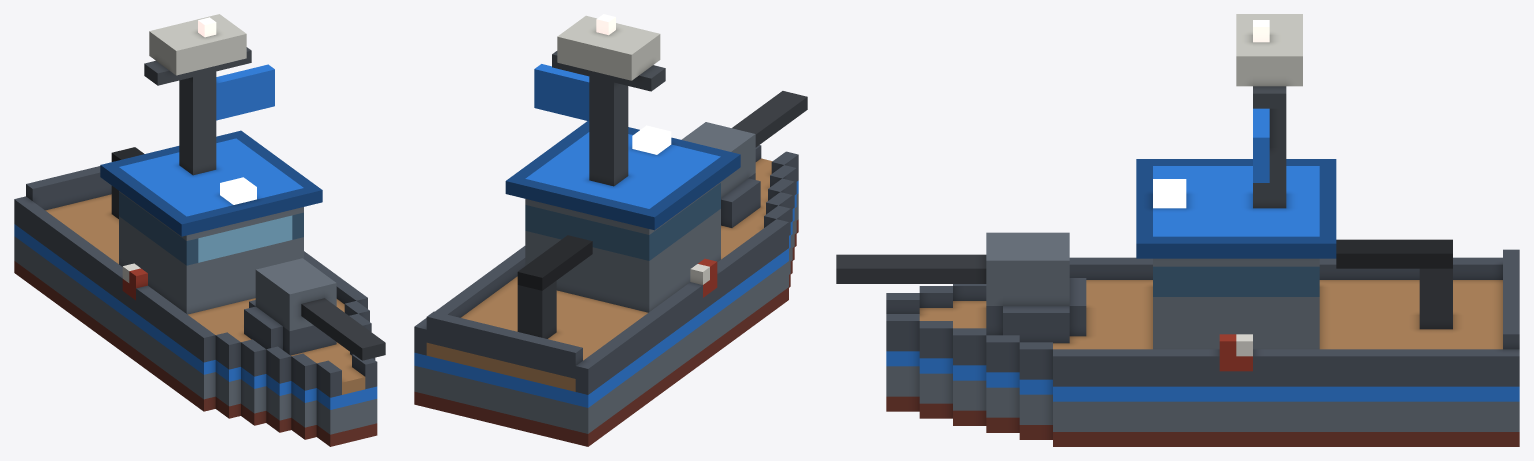
Rendered from cm_gunboat_1.glb.
3 views of the same model, side by side, from view 1: azimuth 30°, elevation 25°; view 2: azimuth 150°, elevation 25°; view 3: azimuth 270°, elevation 25° (orthographic). The views are drawn at different scales.
Visible parts, largest first — view 1: cm_gunboat_1_body; view 2: cm_gunboat_1_body; view 3: cm_gunboat_1_body.
Part boxes in pixels (x1,y1,x2,y2): cm_gunboat_1_body: (14, 14, 385, 446); cm_gunboat_1_body: (414, 14, 807, 446); cm_gunboat_1_body: (836, 14, 1519, 446).
Size of the model in its own units: 0.875 by 1.56 by 2.56.
Materials: 1 (1 with a texture image).
